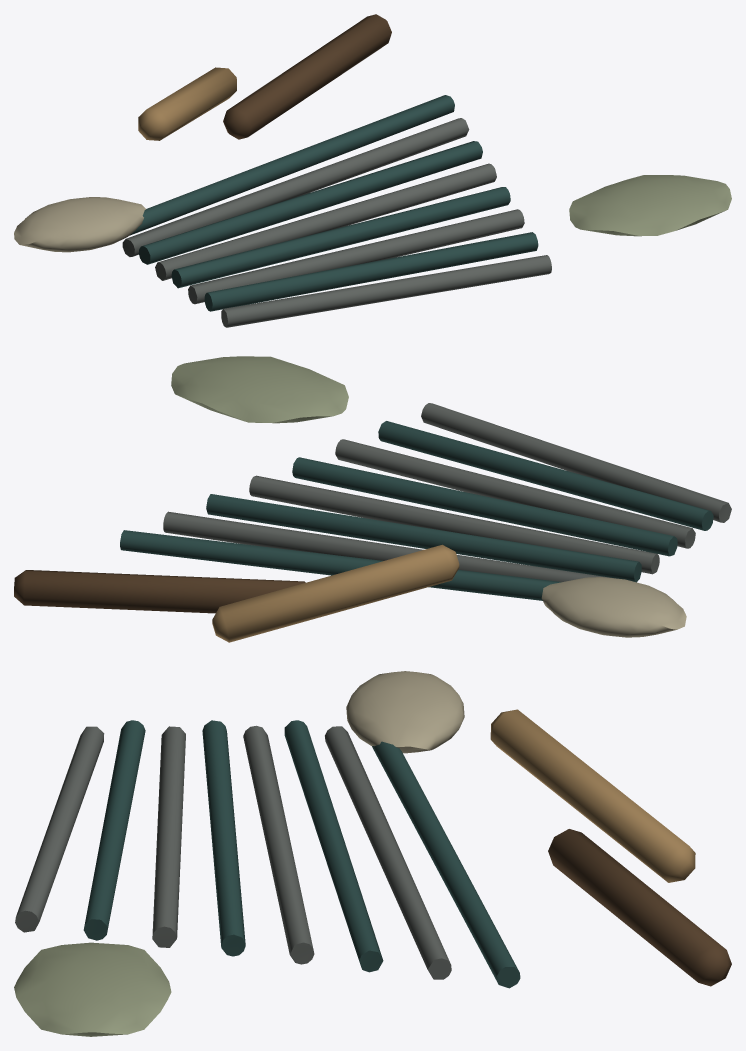
Rendered from drill_steels_b_lod1.glb.
The picture shows the model from 3 angles, top to bottom: view 1: azimuth 30°, elevation 25°; view 2: azimuth 150°, elevation 25°; view 3: azimuth 270°, elevation 25°; orthographic projection. The views are drawn at different scales.
Parts seen in each view (by area): view 1: Surface.001; view 2: Surface.001; view 3: Surface.001.
Part boxes in pixels (bbox=[...]): Surface.001: bbox=[14, 14, 731, 327]; Surface.001: bbox=[14, 356, 731, 642]; Surface.001: bbox=[14, 671, 731, 1036].
Bounding box in the file's own units: 2.75 × 0.3354 × 2.3.
